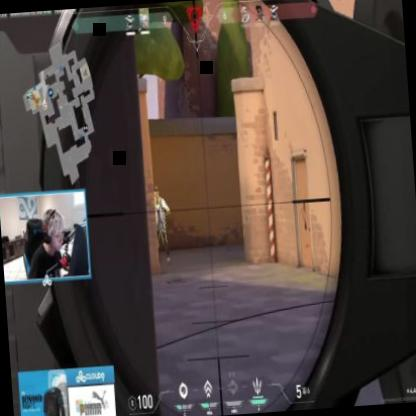enemy: (150, 186, 174, 264)
enemy_head: (154, 186, 160, 200)
